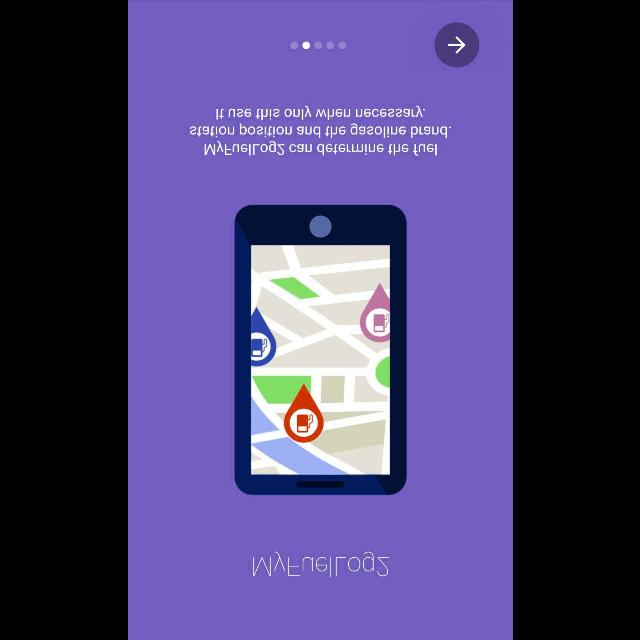button: (434, 22, 478, 68)
image: (234, 205, 406, 495)
pageindicator: (290, 40, 346, 50)
text: (190, 106, 450, 156), (252, 551, 388, 577)
